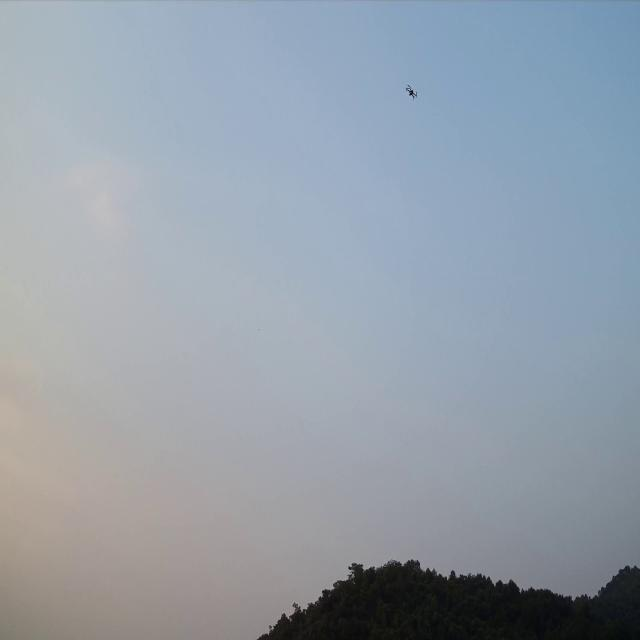UAV: (404, 84, 417, 100)
